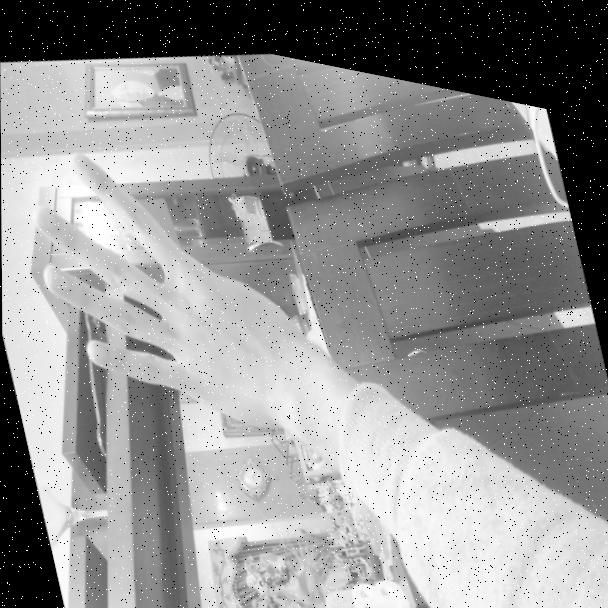four: (12, 83, 323, 458)
